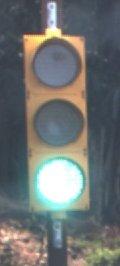Green: (20, 26, 105, 234)
